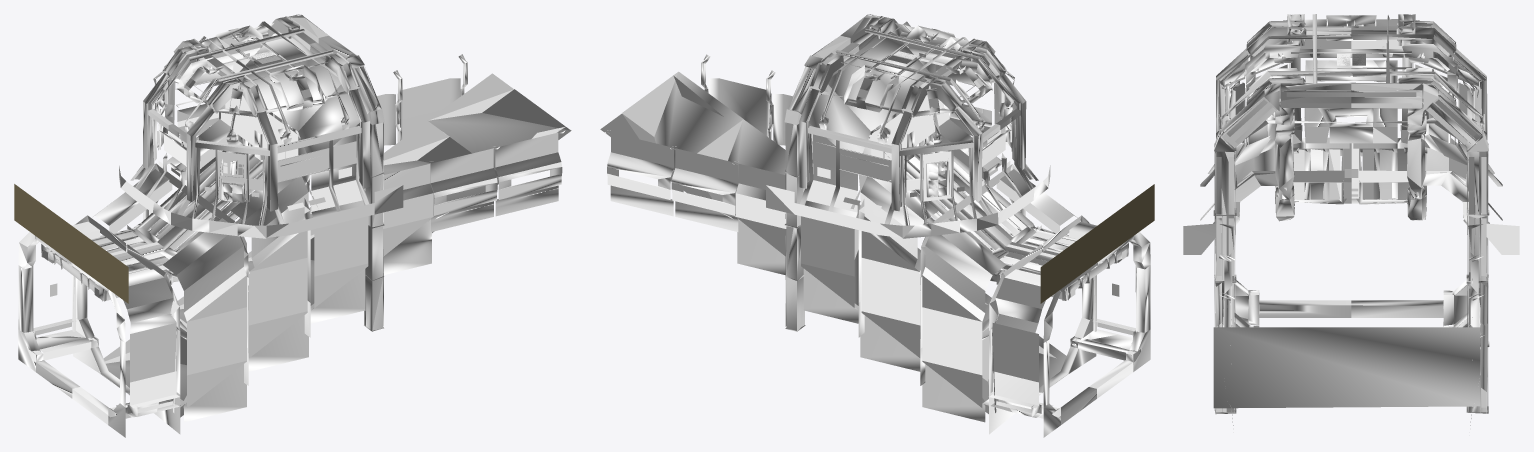
Rendered from ext_landingpad_structure_center_stair_16x08x10_a.glb.
The picture shows the model from 3 angles, left to right: view 1: azimuth 30°, elevation 25°; view 2: azimuth 150°, elevation 25°; view 3: azimuth 270°, elevation 25°; orthographic projection. The views are drawn at different scales.
Bounding box in the file's own units: 14.63 × 9.51 × 7.28.
